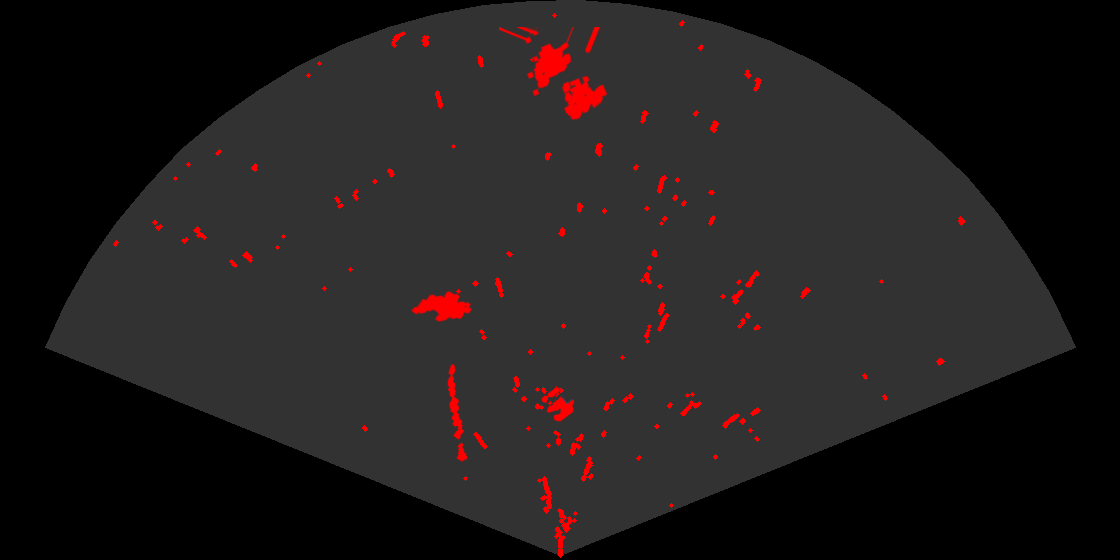AUV: (409, 290, 474, 323)
ball: (540, 386, 576, 423)
cage: (499, 27, 609, 122)
chain: (446, 362, 469, 464)
